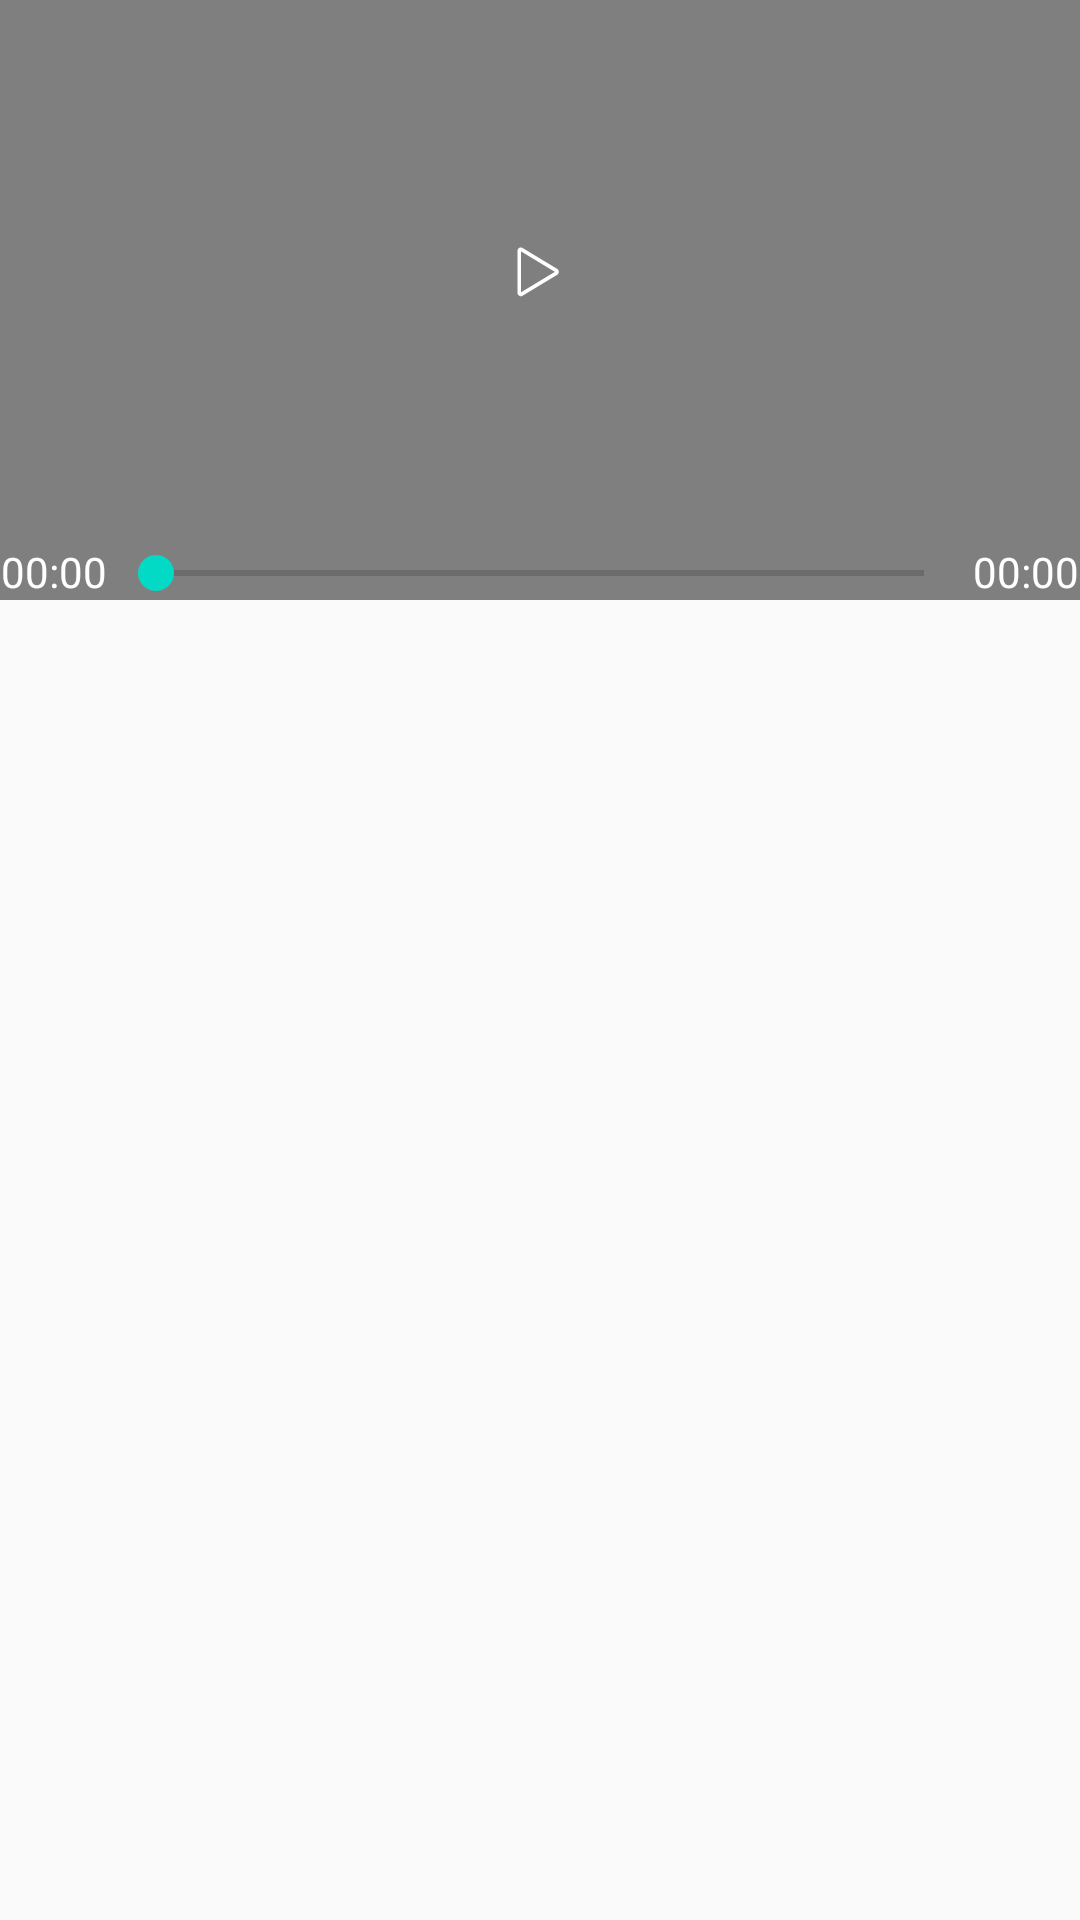

Icon bounding boxes for this 1080px x 1920px phone screenshot, format detection(x1, y1, x2, y2):
play: detection(517, 247, 559, 297)
